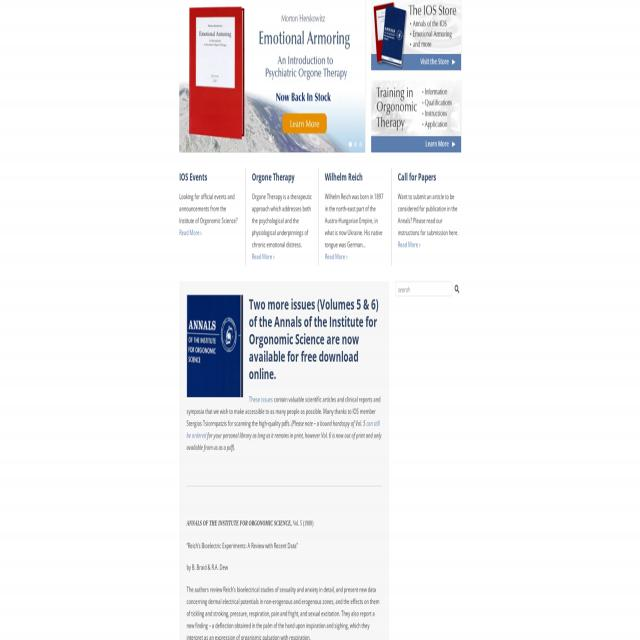button: (179, 4, 365, 152), (371, 80, 461, 152), (373, 0, 461, 70), (186, 295, 244, 397), (282, 114, 327, 134), (453, 280, 462, 296)
field: (395, 281, 452, 297)
